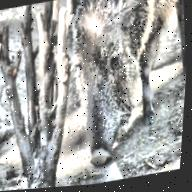boar: (51, 0, 192, 172)
